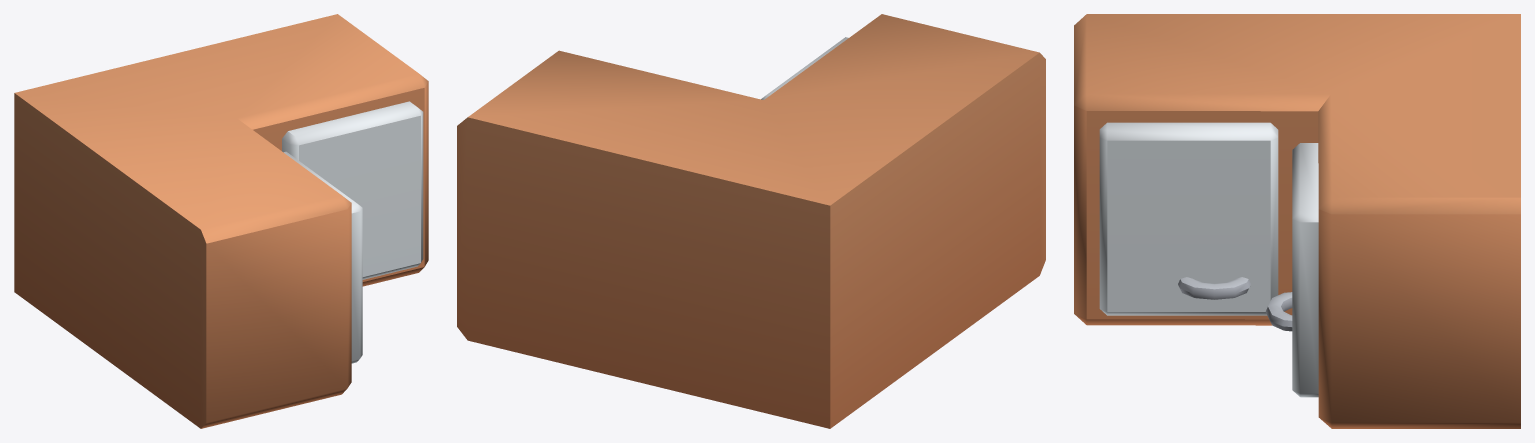
The model's file is Wall Cabinet Corner.glb.
3 views of the same model, side by side, from view 1: azimuth 30°, elevation 25°; view 2: azimuth 150°, elevation 25°; view 3: azimuth 270°, elevation 25° (orthographic). The views are drawn at different scales.
Parts seen in each view (by area): view 1: wall_cabinet_corner; view 2: wall_cabinet_corner; view 3: wall_cabinet_corner.
Part boxes in pixels (<box>): wall_cabinet_corner: <box>14,14,428,428</box>; wall_cabinet_corner: <box>457,14,1045,428</box>; wall_cabinet_corner: <box>1074,14,1520,428</box>.
Bounding box in the file's own units: 1.75 × 1 × 1.75.
1 material, 1 textured.
